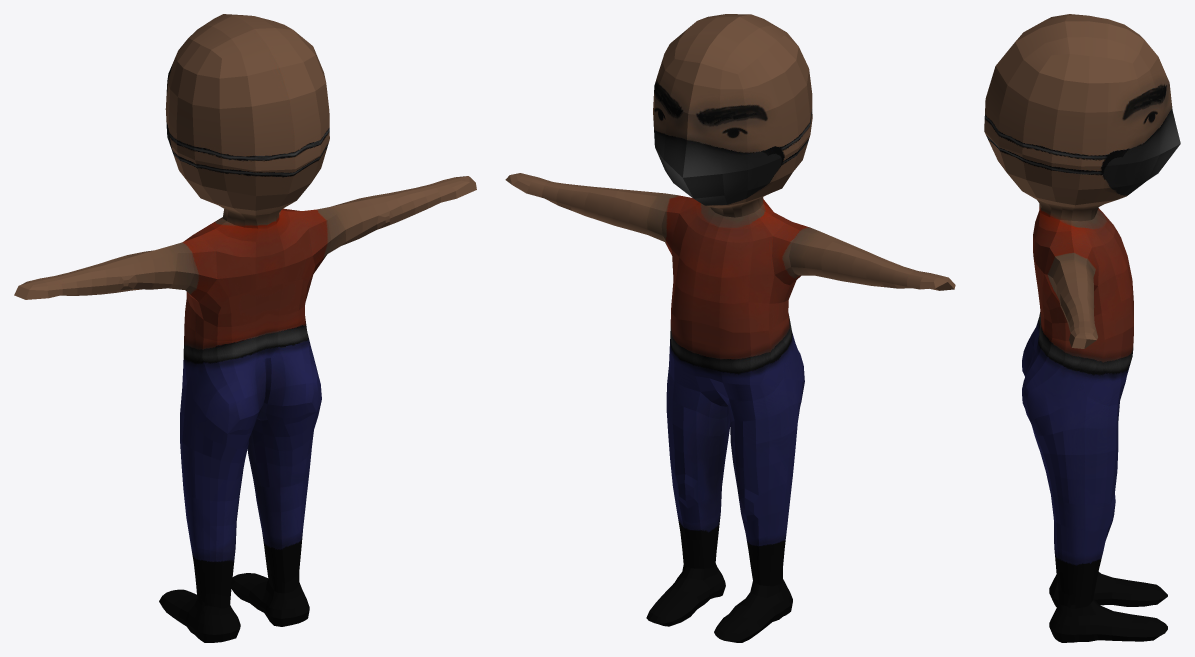
The model's file is PERSONAJE 2.fbx.
3 views of the same model, side by side, from view 1: azimuth 30°, elevation 25°; view 2: azimuth 150°, elevation 25°; view 3: azimuth 270°, elevation 25° (orthographic). The views are drawn at different scales.
Visible parts, largest first — view 1: Mono_base_con_uvs:polySurface7; view 2: Mono_base_con_uvs:polySurface7; view 3: Mono_base_con_uvs:polySurface7.
Part boxes in pixels (x1=…): Mono_base_con_uvs:polySurface7: x1=14, y1=14, x2=476, y2=642; Mono_base_con_uvs:polySurface7: x1=505, y1=14, x2=955, y2=642; Mono_base_con_uvs:polySurface7: x1=984, y1=14, x2=1180, y2=642.
Size of the model in its own units: 3.57 by 4.45 by 1.32.
Materials: 1 (1 with a texture image).
